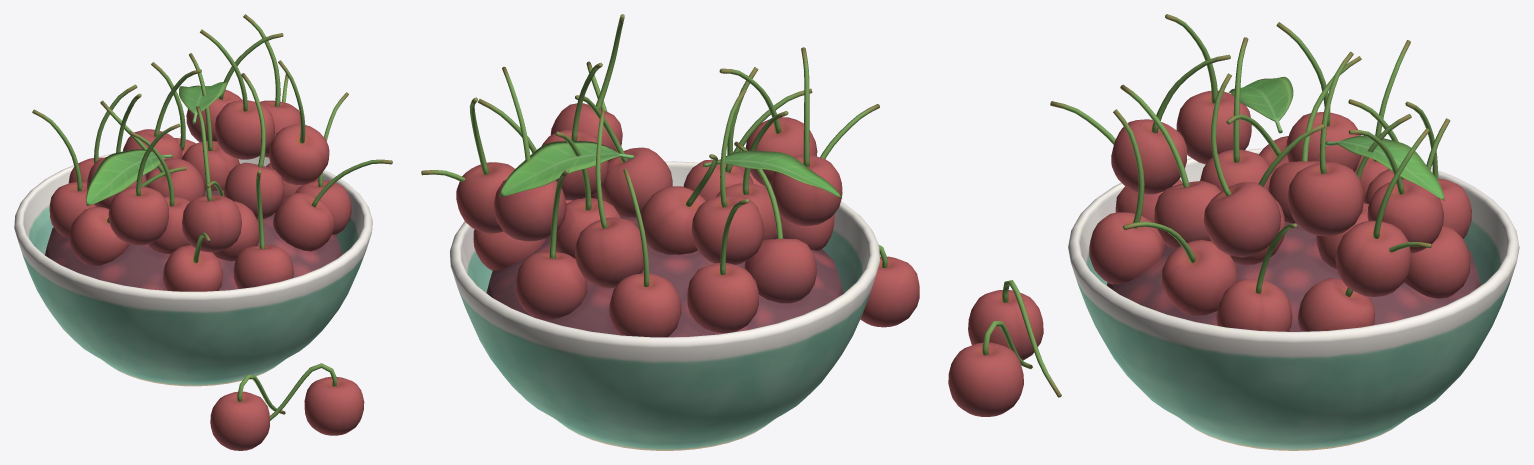
File: fruit-bowl.glb
3 renders of one model, left to right at view 1: azimuth 30°, elevation 25°; view 2: azimuth 150°, elevation 25°; view 3: azimuth 270°, elevation 25°, orthographic. The views are drawn at different scales.
Parts seen in each view (by area): view 1: cherry-bowl_body; view 2: cherry-bowl_body; view 3: cherry-bowl_body.
Part boxes in pixels (x1,y1,x2,y2): cherry-bowl_body: (14,14,392,450); cherry-bowl_body: (421,14,919,450); cherry-bowl_body: (948,14,1519,450).
Bounding box in the file's own units: 0.138 × 0.1244 × 0.1746.
1 material, 1 textured.
